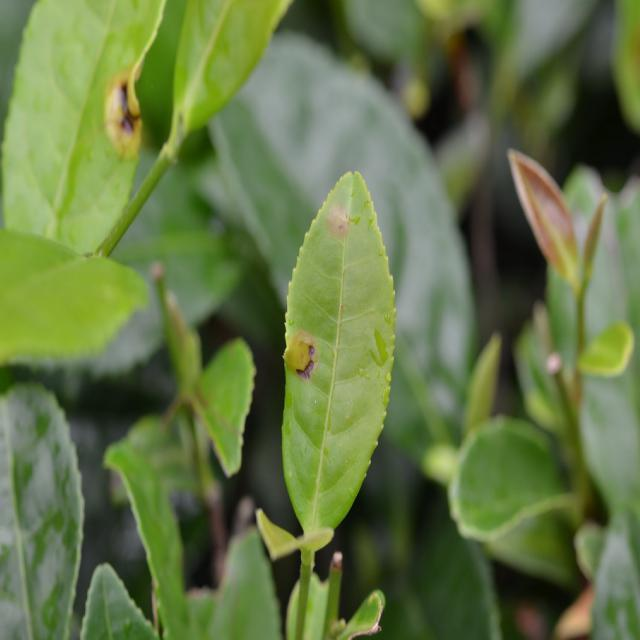Tea cake: (103, 67, 167, 146), (280, 329, 324, 380)
